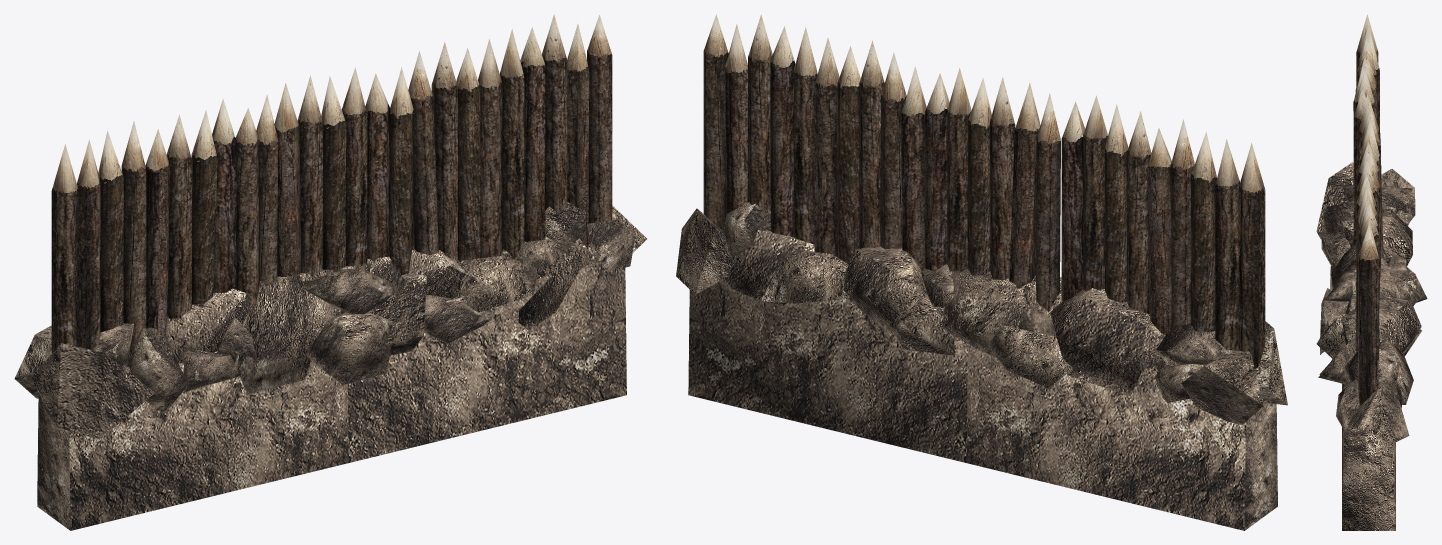
File: palisade_long.glb
The picture shows the model from 3 angles, left to right: view 1: azimuth 30°, elevation 25°; view 2: azimuth 150°, elevation 25°; view 3: azimuth 270°, elevation 25°; orthographic projection. The views are drawn at different scales.
Parts seen in each view (by area): view 1: palisade_long_part0; view 2: palisade_long_part0; view 3: palisade_long_part0.
Part boxes in pixels (x1,y1,x2,y2): palisade_long_part0: (14,14,646,530); palisade_long_part0: (676,14,1287,530); palisade_long_part0: (1316,14,1427,530).
Size of the model in its own units: 3.89 by 2.34 by 0.7626.
1 material, 1 textured.
